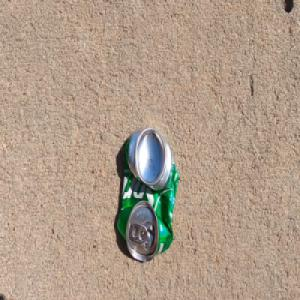SodaCan: (116, 125, 179, 262)
